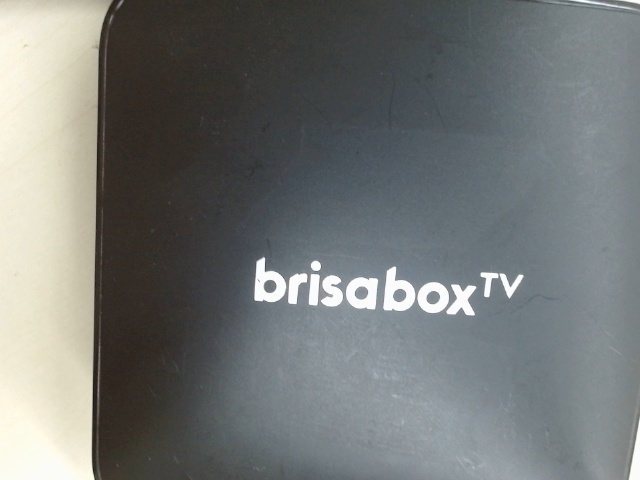AH_brisabox: (242, 250, 529, 325)
